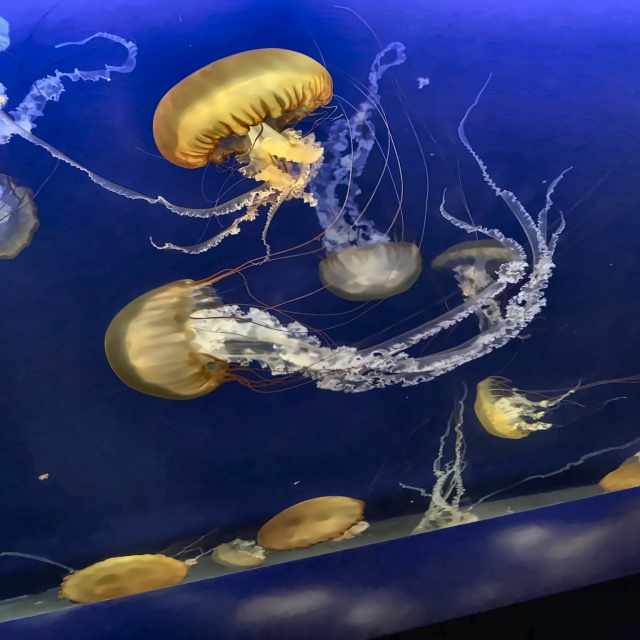jellyfish: (151, 48, 332, 169), (104, 281, 229, 400), (60, 554, 187, 603), (259, 495, 363, 552), (320, 243, 419, 302), (476, 377, 535, 438), (0, 173, 36, 261), (432, 240, 519, 276), (212, 542, 263, 571), (600, 456, 639, 492)
